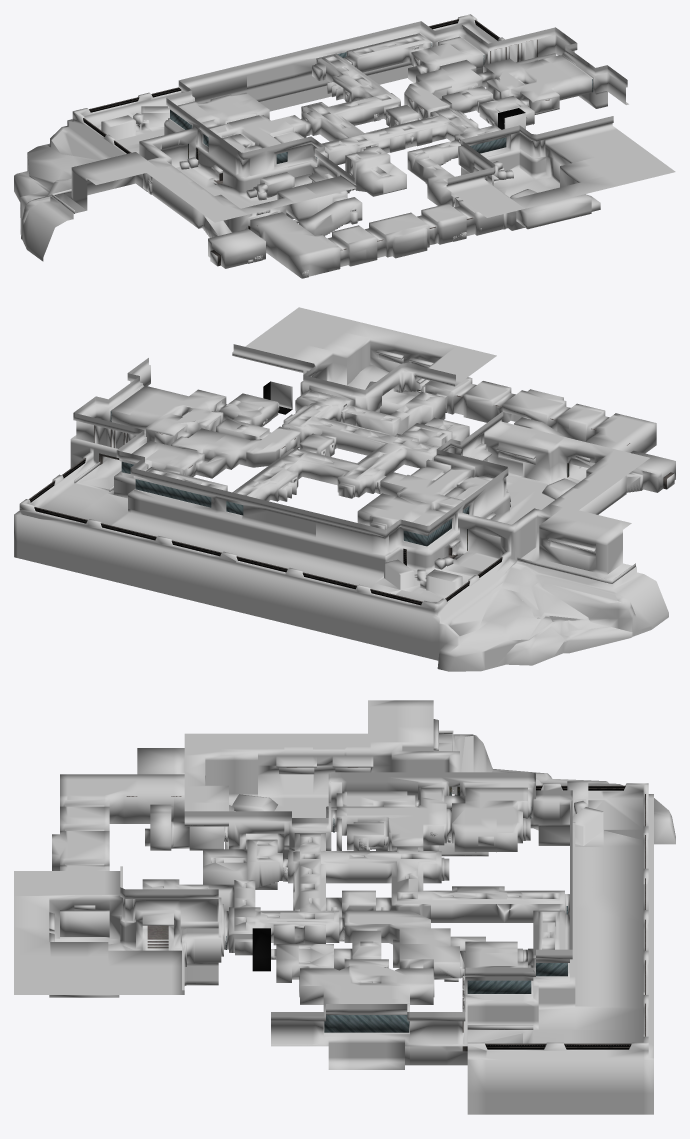
The model's file is de_office.dae.
The picture shows the model from 3 angles, top to bottom: view 1: azimuth 30°, elevation 25°; view 2: azimuth 150°, elevation 25°; view 3: azimuth 270°, elevation 25°; orthographic projection. The views are drawn at different scales.
Visible parts, largest first — view 1: BSP_Object_model_0, BSP_Object_model_201, BSP_Object_model_10; view 2: BSP_Object_model_0, BSP_Object_model_10, BSP_Object_model_140; view 3: BSP_Object_model_0, BSP_Object_model_11, BSP_Object_model_200, BSP_Object_model_132, BSP_Object_model_10, BSP_Object_model_196.
Boxes of the visible parts, left/top/right/bottom form: BSP_Object_model_0: left=14, top=14, right=675, bottom=278; BSP_Object_model_201: left=246, top=172, right=294, bottom=200; BSP_Object_model_10: left=83, top=20, right=498, bottom=153; BSP_Object_model_0: left=14, top=307, right=675, bottom=671; BSP_Object_model_10: left=30, top=459, right=502, bottom=605; BSP_Object_model_140: left=135, top=479, right=243, bottom=515; BSP_Object_model_0: left=14, top=700, right=675, bottom=1114; BSP_Object_model_11: left=324, top=1015, right=409, bottom=1032; BSP_Object_model_200: left=60, top=911, right=109, bottom=936; BSP_Object_model_132: left=467, top=980, right=531, bottom=993; BSP_Object_model_10: left=485, top=786, right=630, bottom=1049; BSP_Object_model_196: left=232, top=794, right=277, bottom=811.
Bounding box in the file's own units: 5136 × 4038 × 752.
